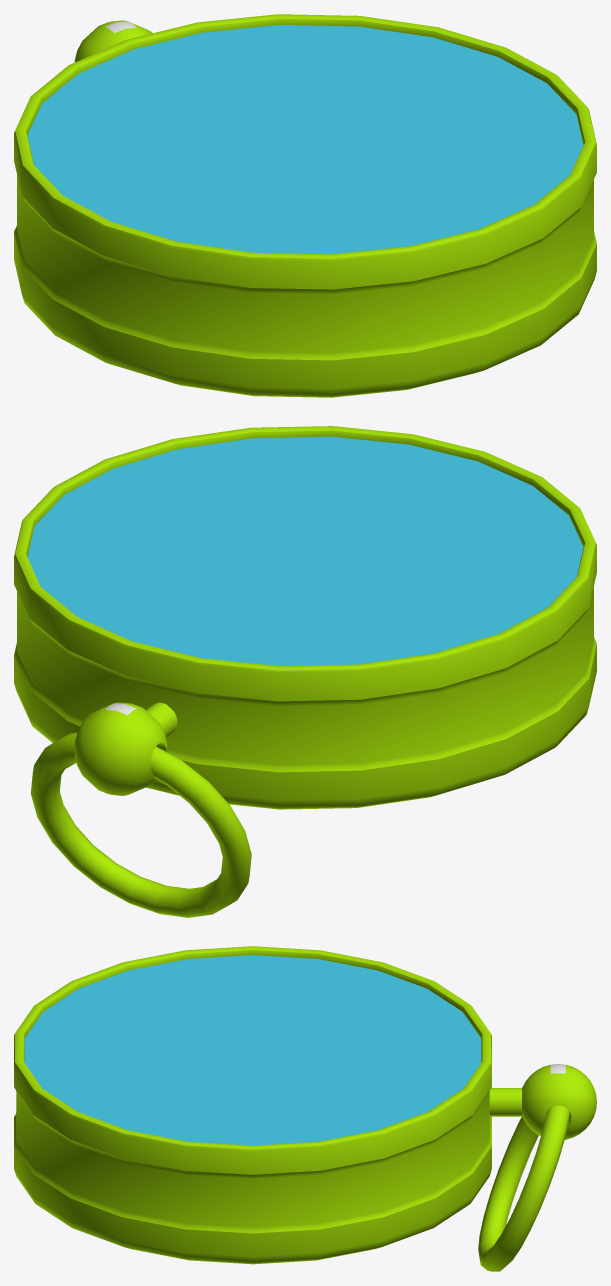
The model's file is Compass.fbx.
3 renders of one model, top to bottom at view 1: azimuth 30°, elevation 25°; view 2: azimuth 150°, elevation 25°; view 3: azimuth 270°, elevation 25°, orthographic. The views are drawn at different scales.
Parts seen in each view (by area): view 1: gLASS; view 2: gLASS; view 3: gLASS.
Boxes of the visible parts, bbox=[...] form: gLASS: bbox=[14, 14, 596, 397]; gLASS: bbox=[14, 426, 596, 917]; gLASS: bbox=[14, 946, 596, 1271].
Size of the model in its own units: 0.057 by 0.028 by 0.0688.
